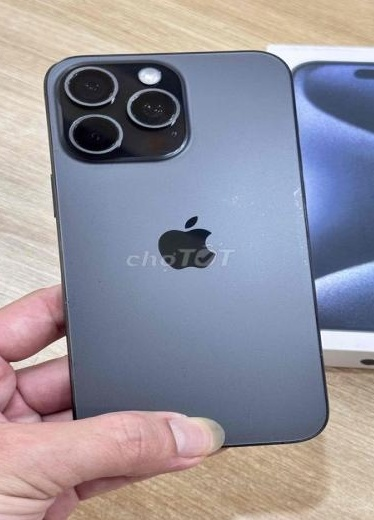scratch: (54, 64, 188, 159), (212, 183, 318, 273)
